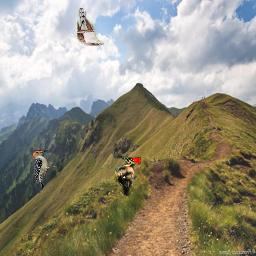Cuckoo: (77, 8, 104, 46)
Woodpecker: (114, 156, 141, 196), (32, 150, 57, 190)
